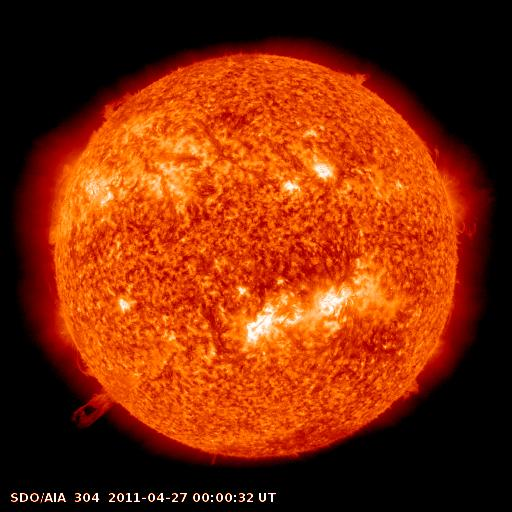prominence: (39, 154, 82, 252), (63, 389, 125, 433), (97, 84, 137, 129), (340, 60, 384, 99), (58, 346, 103, 381), (388, 374, 433, 409)
